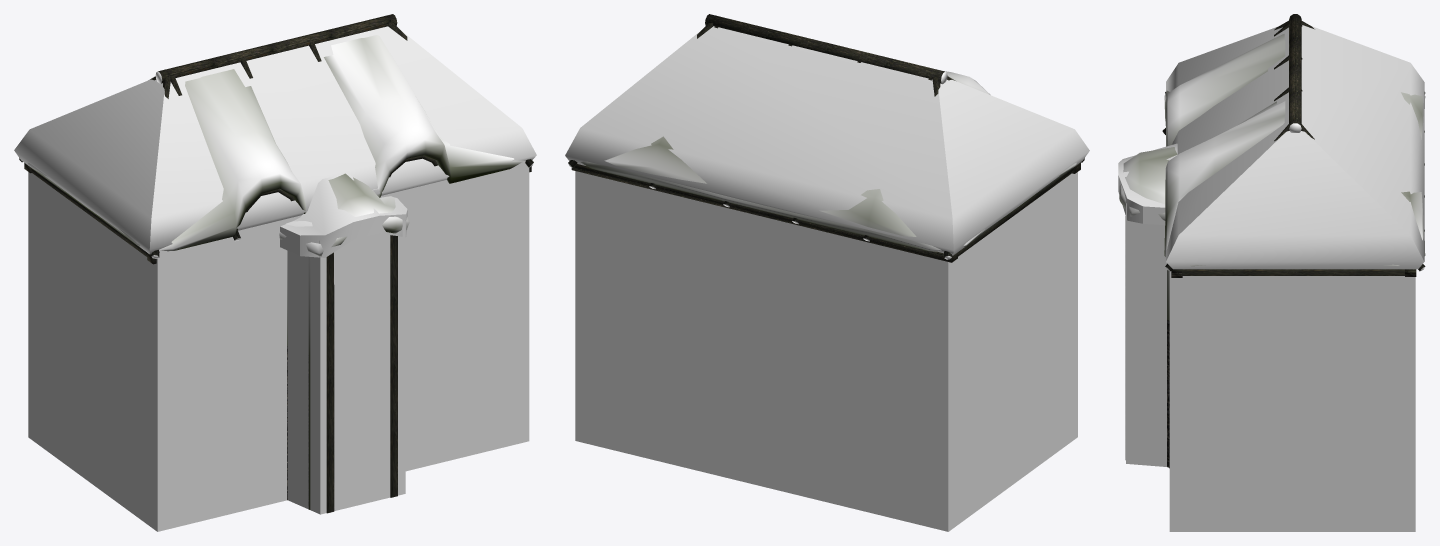
Rendered from ex_nord_house_04.dae.
The picture shows the model from 3 angles, left to right: view 1: azimuth 30°, elevation 25°; view 2: azimuth 150°, elevation 25°; view 3: azimuth 270°, elevation 25°; orthographic projection. The views are drawn at different scales.
Parts seen in each view (by area): view 1: nifid_59-matrix, nifid_57-matrix, nifid_61-matrix, nifid_40-matrix, nifid_1-matrix, nifid_63-matrix; view 2: nifid_59-matrix, nifid_57-matrix, nifid_40-matrix, nifid_1-matrix; view 3: nifid_59-matrix, nifid_57-matrix, nifid_40-matrix, nifid_61-matrix, nifid_1-matrix, nifid_63-matrix, nifid_19-matrix.
Boxes of the visible parts, x1,y1,x2,y2 form: nifid_59-matrix: (28, 160, 529, 531); nifid_57-matrix: (14, 26, 536, 254); nifid_61-matrix: (287, 220, 405, 514); nifid_40-matrix: (27, 35, 523, 256); nifid_1-matrix: (19, 14, 533, 513); nifid_63-matrix: (280, 173, 407, 257); nifid_59-matrix: (575, 171, 1077, 531); nifid_57-matrix: (565, 26, 1089, 255); nifid_40-matrix: (580, 71, 1076, 251); nifid_1-matrix: (568, 14, 1084, 262); nifid_59-matrix: (1169, 271, 1415, 531); nifid_57-matrix: (1166, 25, 1424, 269); nifid_40-matrix: (1119, 34, 1425, 266); nifid_61-matrix: (1126, 203, 1166, 466); nifid_1-matrix: (1125, 14, 1425, 459); nifid_63-matrix: (1118, 143, 1177, 225); nifid_19-matrix: (1167, 320, 1169, 468).
Bounding box in the file's own units: 671 × 484 × 655.
Materials: 5 (3 with a texture image).
